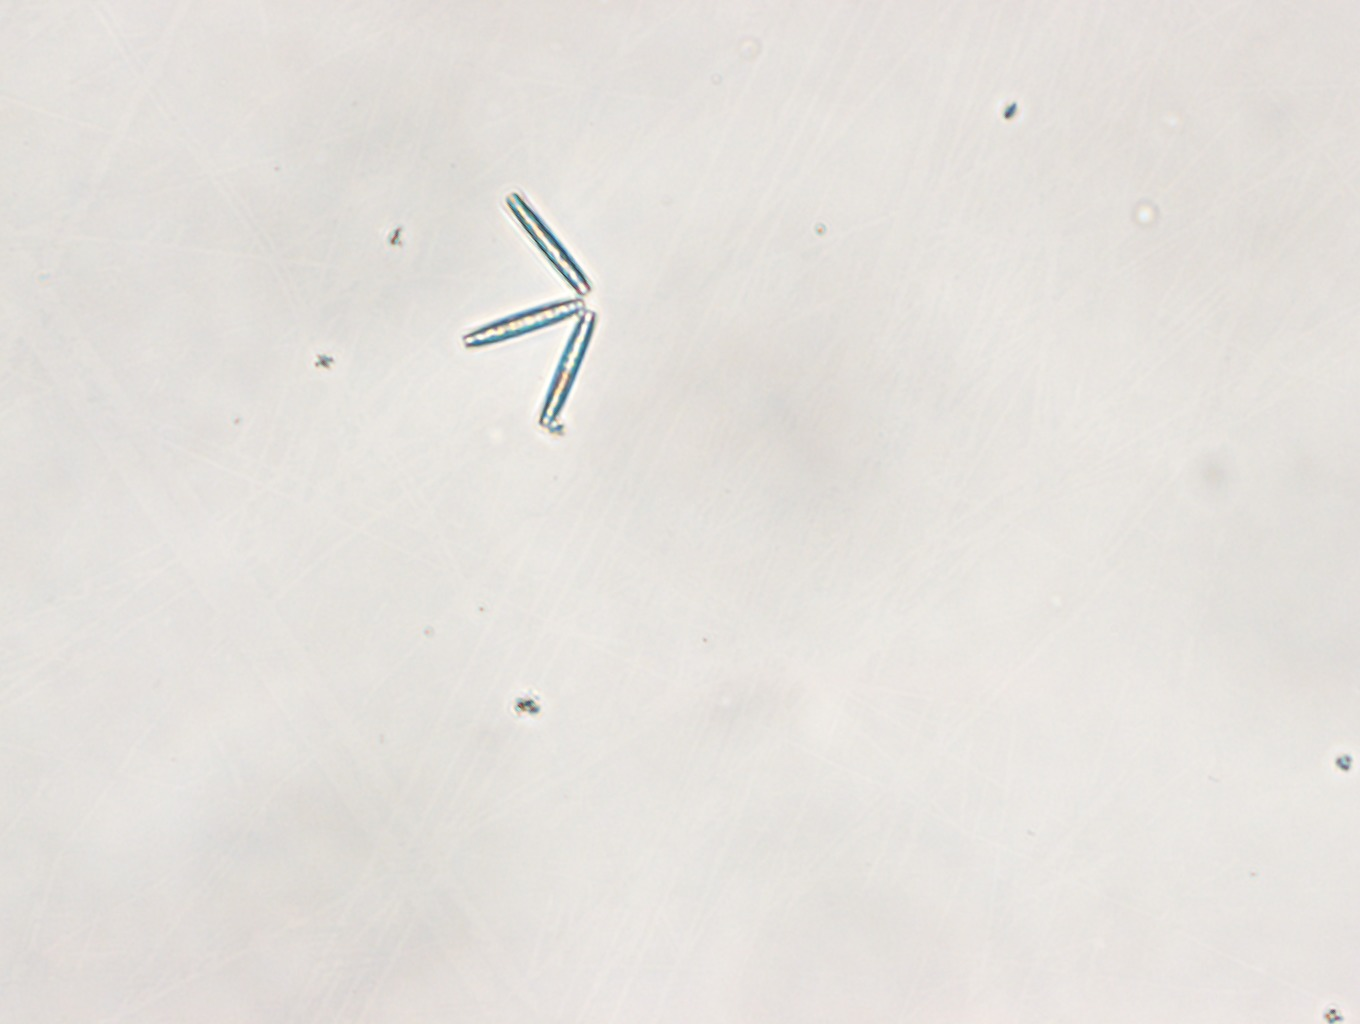thalassionema frauenfeldii: (458, 187, 596, 441)
